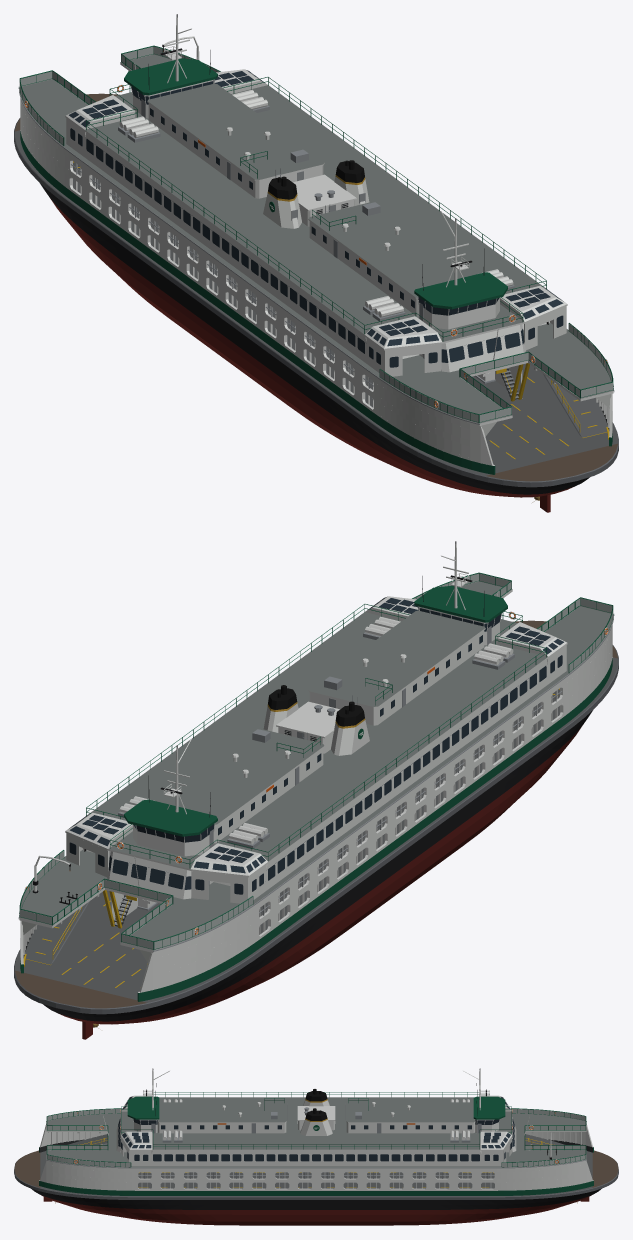
Rendered from issaquah_mid.glb.
3 views of the same model, one above another, from view 1: azimuth 30°, elevation 25°; view 2: azimuth 150°, elevation 25°; view 3: azimuth 270°, elevation 25° (orthographic). The views are drawn at different scales.
Visible parts, largest first — view 1: fixed, glass, thinshadow; view 2: fixed, glass, thinshadow; view 3: fixed, glass, thinshadow, window.
Part boxes in pixels (<box>): fixed: <box>14,14,618,512</box>; glass: <box>69,70,563,367</box>; thinshadow: <box>24,47,608,427</box>; fixed: <box>14,541,618,1039</box>; glass: <box>69,597,563,894</box>; thinshadow: <box>24,573,608,954</box>; fixed: <box>14,1068,618,1225</box>; glass: <box>118,1097,514,1161</box>; thinshadow: <box>73,1083,559,1163</box>; window: <box>161,1125,471,1129</box>.
Bounding box in the file's own units: 24.4 × 27.6 × 112.
